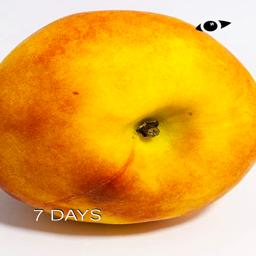Peach Fresh: (0, 9, 256, 227)
